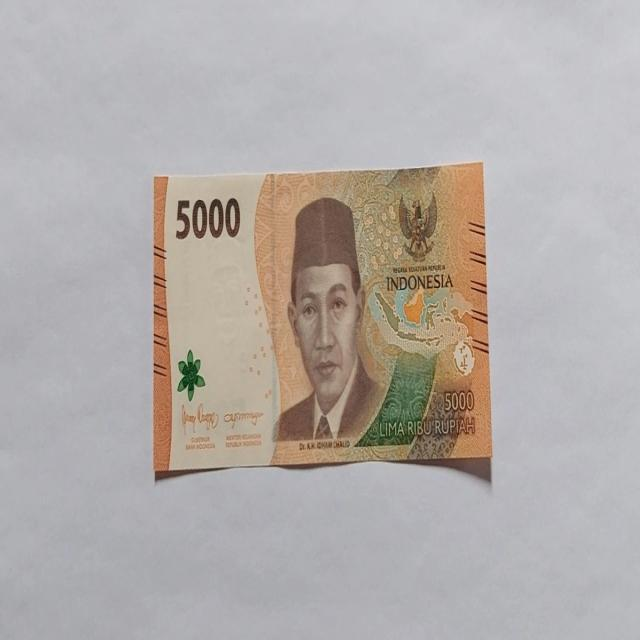lima ribu rupiah: (153, 162, 492, 478), (271, 196, 386, 446)
